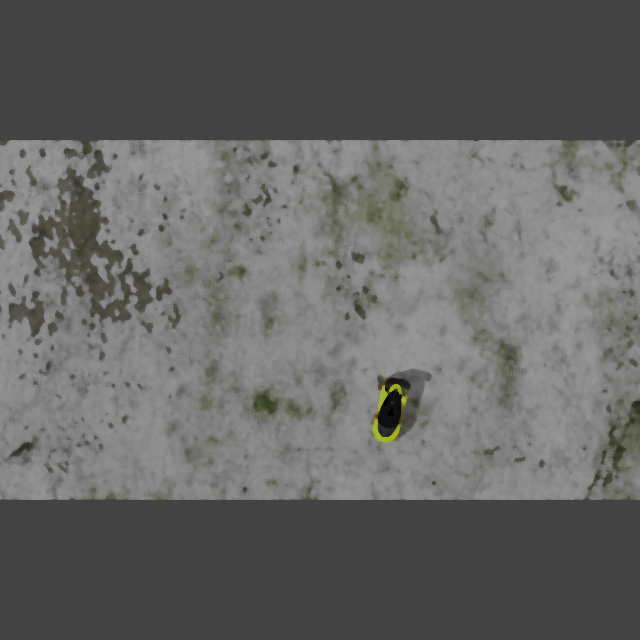car: (366, 374, 413, 448)
